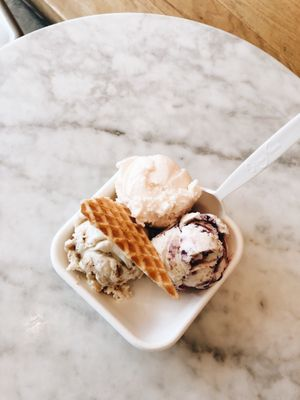sandwich: (214, 111, 300, 202)
sushi: (50, 171, 244, 352)
